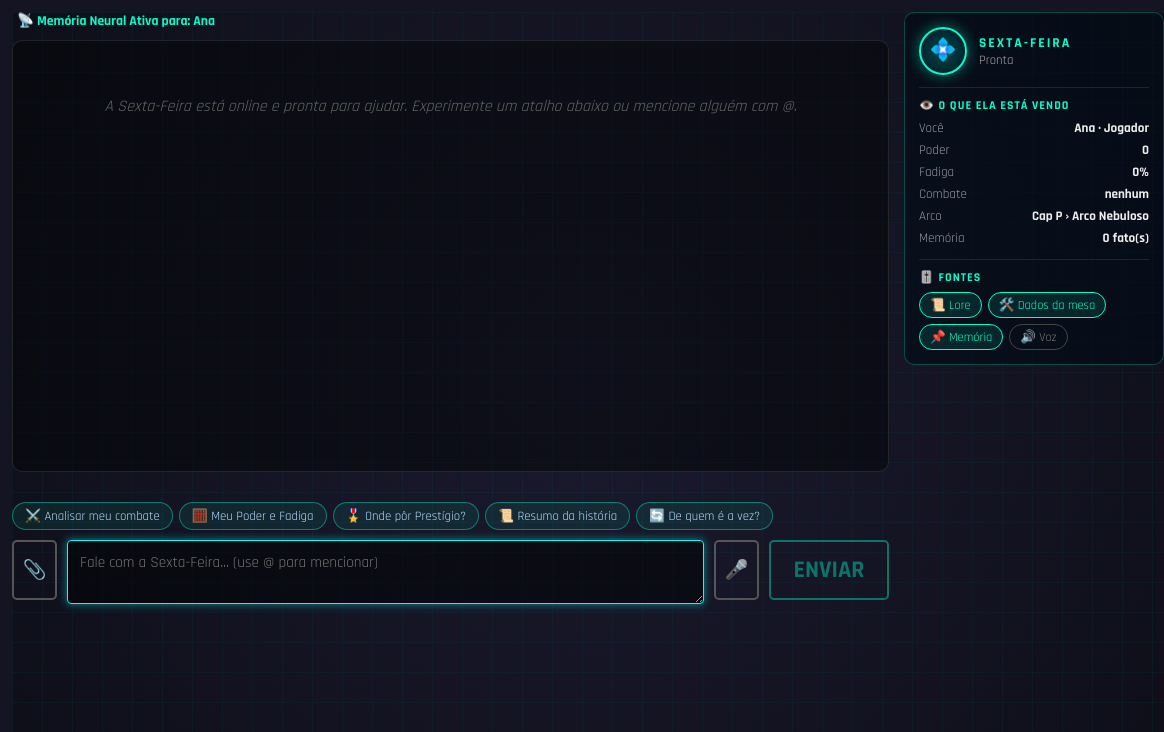
Test: AIChat - atalhos › clicar envia o texto do atalho direto, sem mexer no campo
In the text box named "Mensagem para a Sexta-Feira": point(386, 572) [67, 540, 704, 604], type "rascunho"
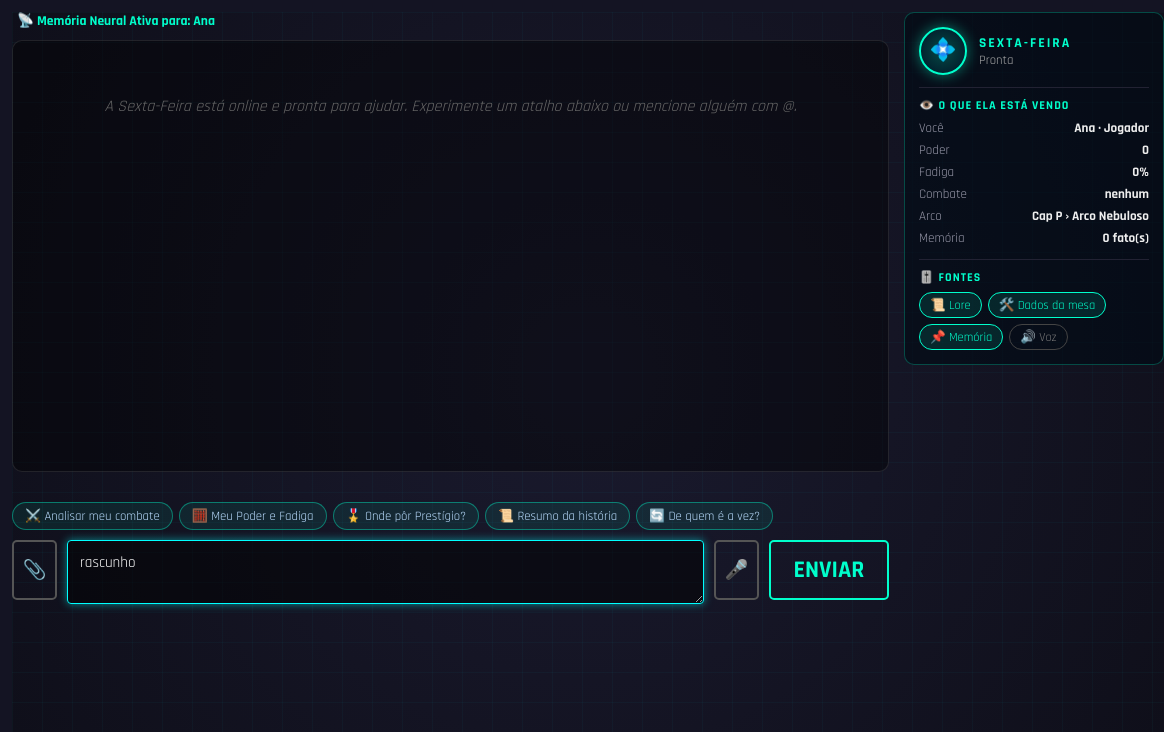
Click the button "⚔️ Analisar meu combate": point(92, 516) [12, 502, 173, 530]
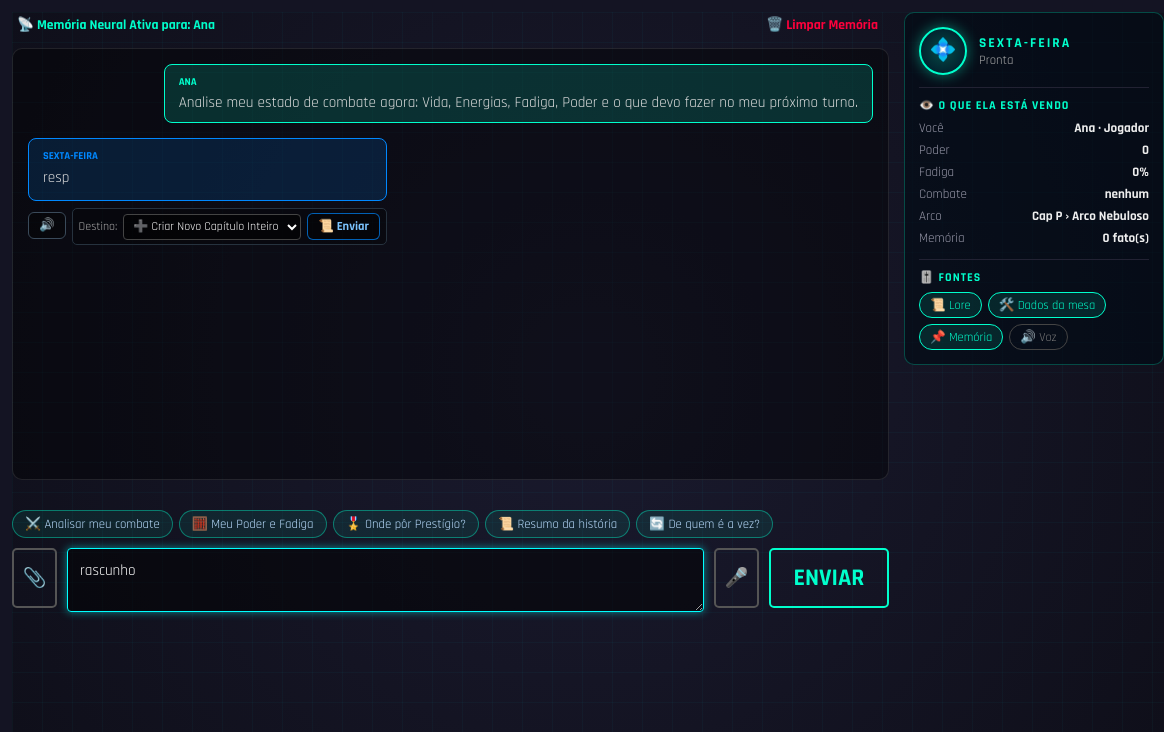
expect the text "Analise meu estado de combate agora: Vida, Energias, Fadiga, Poder e o que devo fazer no meu próximo turno." is shown: met, box [179, 93, 858, 112]
